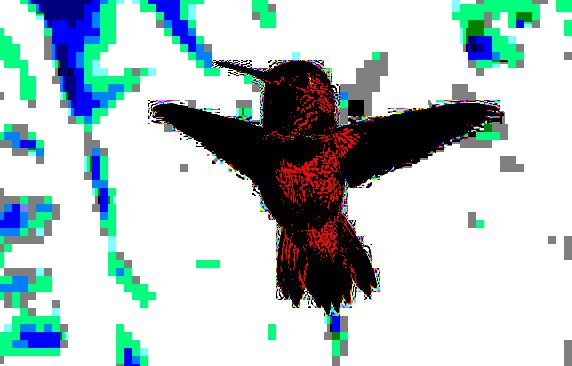Bird: (143, 56, 508, 321)
